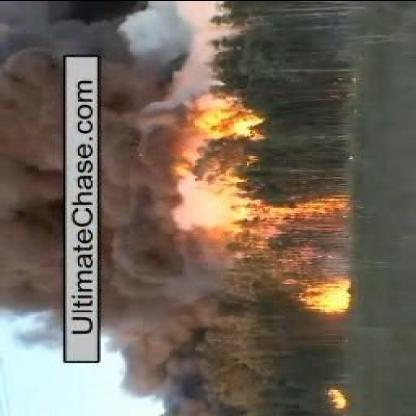-: (107, 33, 185, 387), (2, 89, 58, 315)
foggia-v2-map80-epoch100 - v1 4323: (311, 280, 350, 308)
